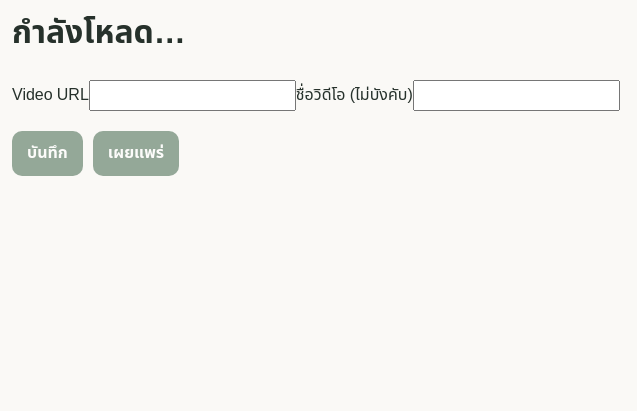
VideoEpisodeEditor › validates, saves, and previews backend-derived YouTube metadata
In the field labelled "Video URL": (192, 96) 89,80 -> 296,111, type "https://youtube.com/shorts/dQw4w9WgXcQ"
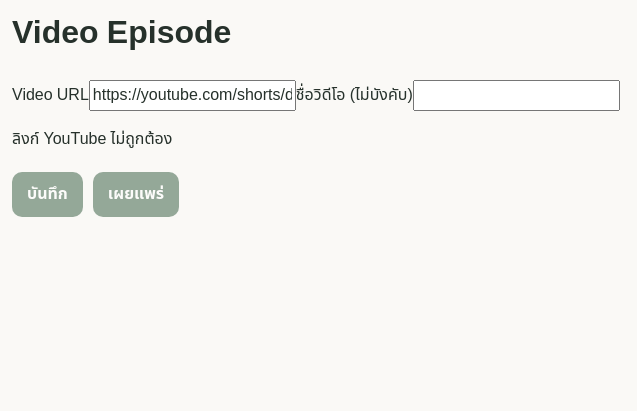
Expected: the button "บันทึก" is disabled, 12,172 -> 83,217
Replace the text in the field labelled "Video URL" with "https://youtu.be/dQw4w9WgXcQ": (192, 96) 89,80 -> 296,111
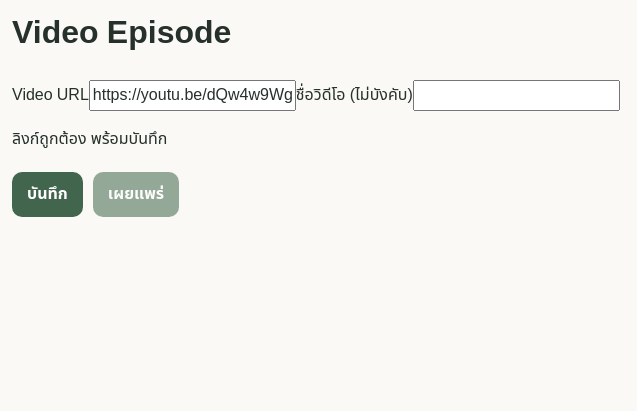
Click the button "บันทึก": (47, 194) 12,172 -> 83,217
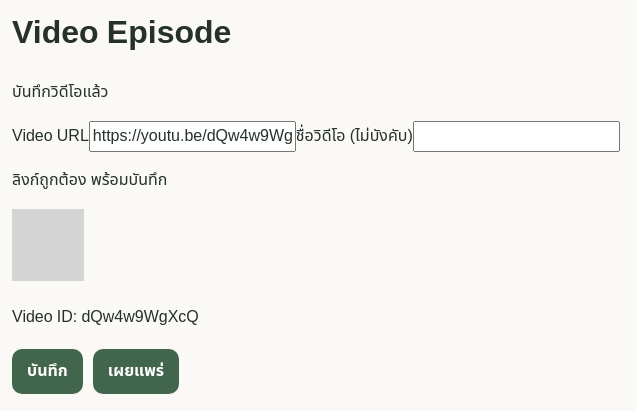
Expected: the text "Video ID: dQw4w9WgXcQ" is shown, 12,305 -> 199,329
